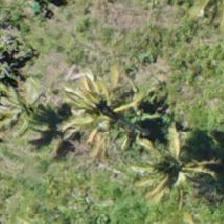coconut_tree: (126, 115, 216, 205), (59, 64, 149, 154), (0, 64, 65, 154)
